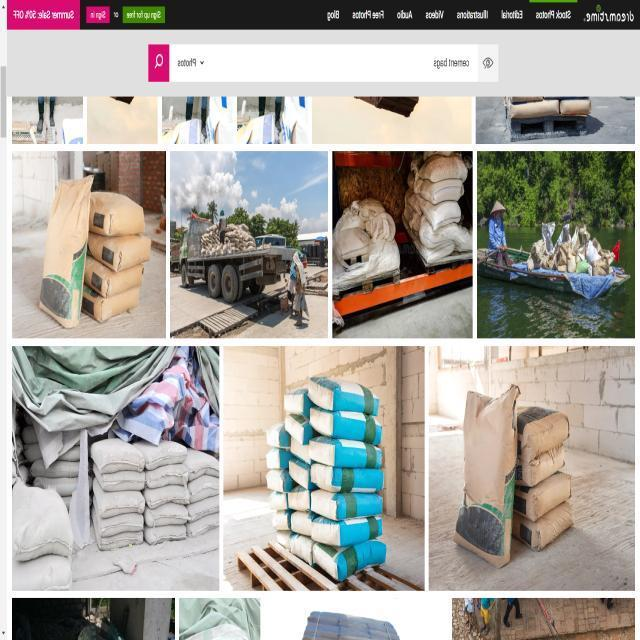gunny_bag: (454, 385, 520, 567), (38, 174, 92, 327), (11, 479, 72, 561), (516, 407, 570, 486), (312, 540, 386, 581), (513, 502, 574, 551), (517, 406, 570, 462), (514, 471, 572, 521), (308, 376, 379, 415), (310, 407, 382, 445), (88, 190, 144, 235), (87, 231, 150, 271), (83, 255, 143, 297), (309, 436, 382, 468), (310, 515, 383, 547), (311, 489, 383, 521), (310, 462, 384, 493), (90, 507, 143, 550), (11, 555, 71, 591), (80, 285, 139, 321), (92, 478, 144, 518), (89, 438, 144, 473), (131, 440, 187, 470), (416, 194, 462, 229), (92, 462, 145, 492), (419, 153, 468, 181), (414, 178, 464, 204), (95, 511, 143, 537), (142, 484, 189, 509), (142, 502, 189, 527), (183, 448, 218, 481), (144, 463, 187, 489), (186, 474, 219, 503), (143, 524, 186, 545), (186, 496, 219, 522), (285, 414, 313, 444), (284, 388, 313, 416), (186, 513, 218, 537)
